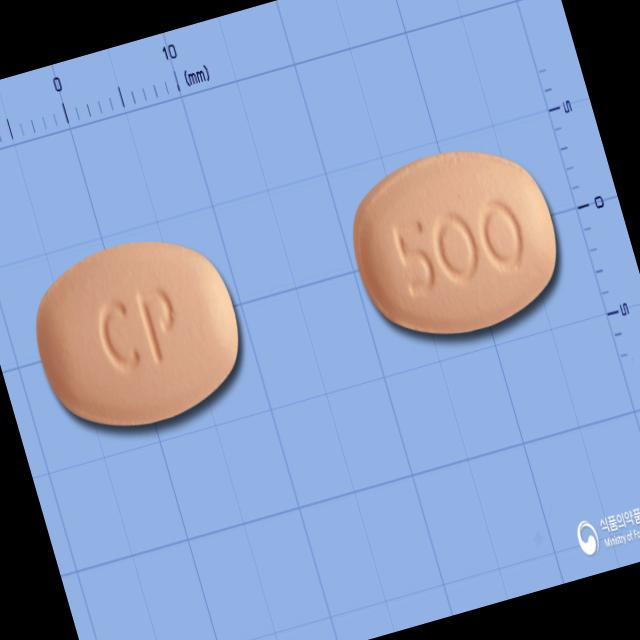Refloxin Tab- -For Export-: (333, 126, 577, 357), (17, 218, 258, 449)
